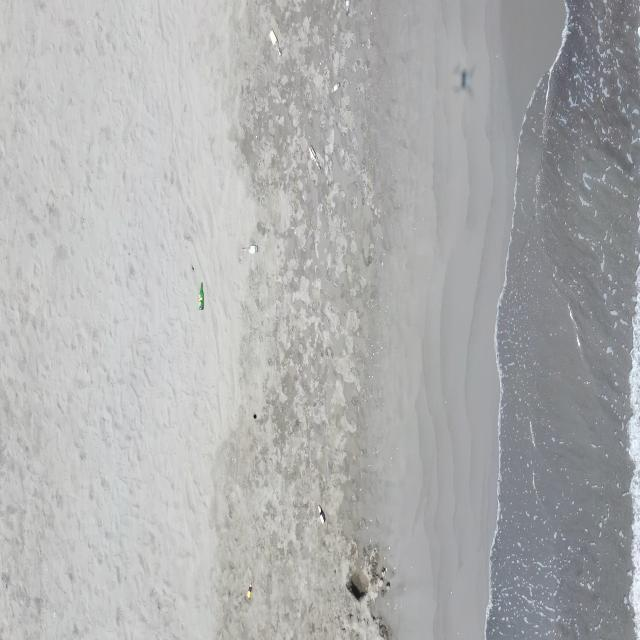glass: (269, 27, 282, 58), (308, 146, 321, 172), (198, 280, 205, 310), (241, 244, 259, 254), (318, 504, 326, 526), (331, 82, 341, 94), (246, 582, 252, 600), (344, 0, 351, 15)
